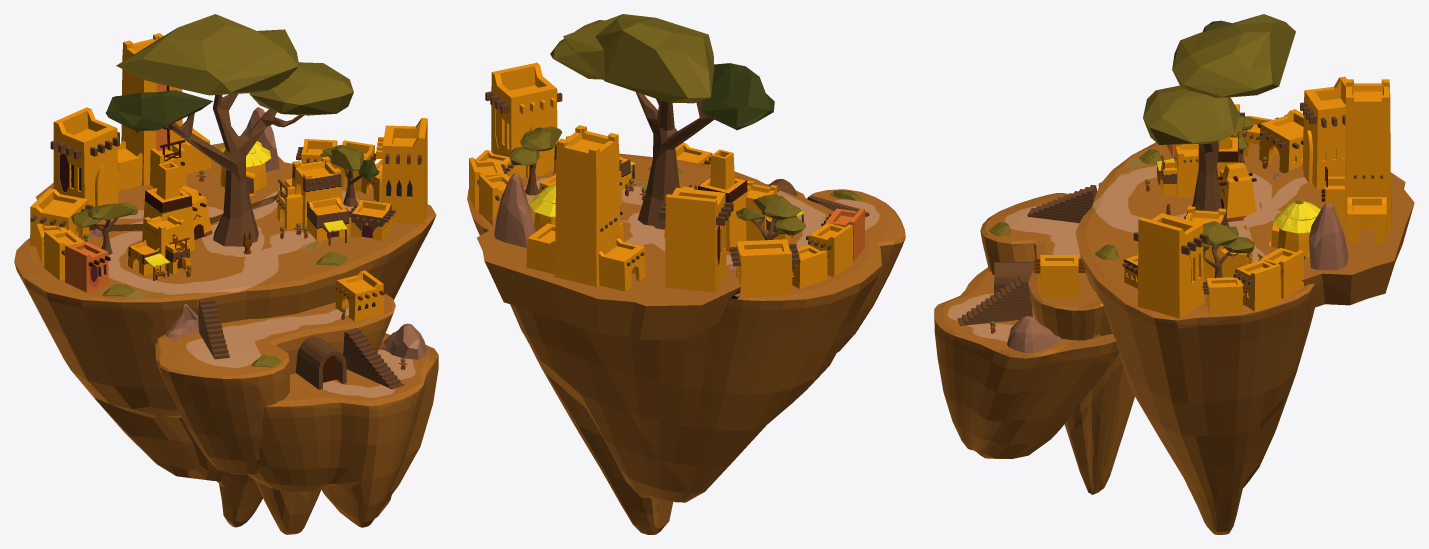
Rendered from env.fbx.
3 views of the same model, side by side, from view 1: azimuth 30°, elevation 25°; view 2: azimuth 150°, elevation 25°; view 3: azimuth 270°, elevation 25° (orthographic). The views are drawn at different scales.
Parts seen in each view (by area): view 1: Plane.002, Cube.083, Cube.036, Cube.004, Cube.037, Cube.016, Cube.014, Cube.001, Cube.011, Cube.005, Cube.020, Cube.035 (+14 smaller); view 2: Plane.002, Cube.083, Cube.004, Cube.036, Cube.037, Cube.011, Cube.001, Cube.019, Cube.006, Cube.003, Cube.008, Cube.010 (+6 smaller); view 3: Plane.002, Cube.083, Cube.004, Cube.037, Cube.036, Cube.011, Cube.035, Cube.019, Cylinder.005, Cube.020, Cube.017, Cube.082 (+9 smaller).
Part boxes in pixels (box(x1,y1,x2,y2)): Plane.002: box(14, 142, 438, 534); Cube.083: box(105, 14, 353, 246); Cube.036: box(50, 107, 119, 207); Cube.004: box(117, 33, 211, 190); Cube.037: box(376, 118, 427, 224); Cube.016: box(277, 156, 342, 229); Cube.014: box(128, 213, 190, 275); Cube.001: box(142, 161, 194, 250); Cube.011: box(30, 188, 92, 246); Cube.005: box(64, 241, 110, 292); Cube.020: box(335, 270, 384, 321); Cube.035: box(343, 328, 404, 389); Plane.002: box(467, 153, 905, 534); Cube.083: box(550, 14, 774, 229); Cube.004: box(526, 125, 645, 291); Cube.036: box(659, 187, 733, 292); Cube.037: box(485, 62, 562, 178); Cube.011: box(729, 239, 800, 296); Cube.001: box(697, 149, 747, 251); Cube.019: box(494, 173, 535, 247); Cube.006: box(736, 195, 805, 240); Cube.003: box(806, 222, 853, 276); Cube.008: box(509, 126, 562, 195); Cube.010: box(792, 244, 830, 288); Plane.002: box(934, 142, 1414, 534); Cube.083: box(1143, 14, 1295, 226); Cube.004: box(1321, 79, 1391, 242); Cube.037: box(1133, 213, 1208, 318); Cube.036: box(1300, 76, 1346, 189); Cube.011: box(1257, 109, 1303, 173); Cube.035: box(957, 275, 1032, 325); Cube.019: box(1308, 203, 1347, 270); Cylinder.005: box(1269, 200, 1320, 257); Cube.020: box(1034, 255, 1085, 296); Cube.017: box(1233, 259, 1283, 311); Cube.082: box(1218, 162, 1256, 222).
Bounding box in the file's own units: 6.96 × 7.47 × 8.62.
Materials: 13 (13 with a texture image).
